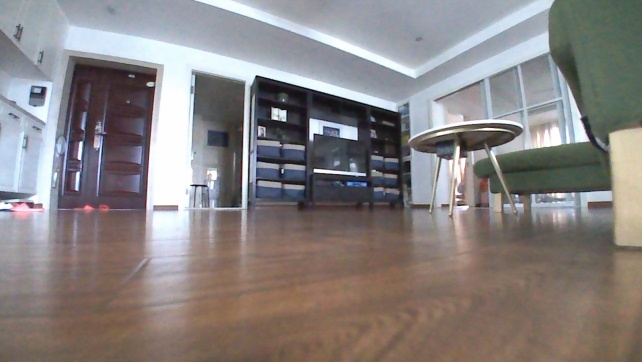TV_stand: (305, 168, 377, 210)
door_anno: (53, 60, 157, 210)
sofa1: (472, 0, 641, 252)
